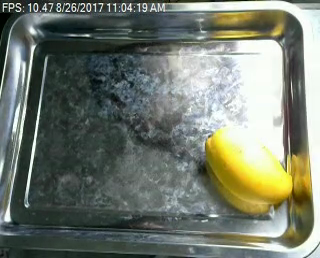Mango: (197, 125, 302, 206)
